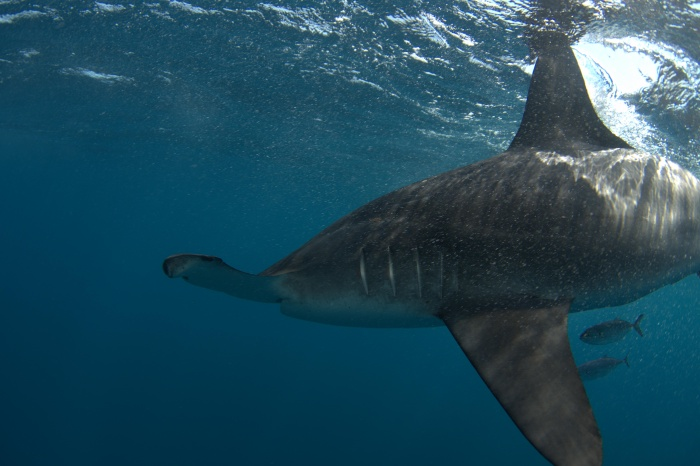Hammer: (116, 26, 700, 455)
